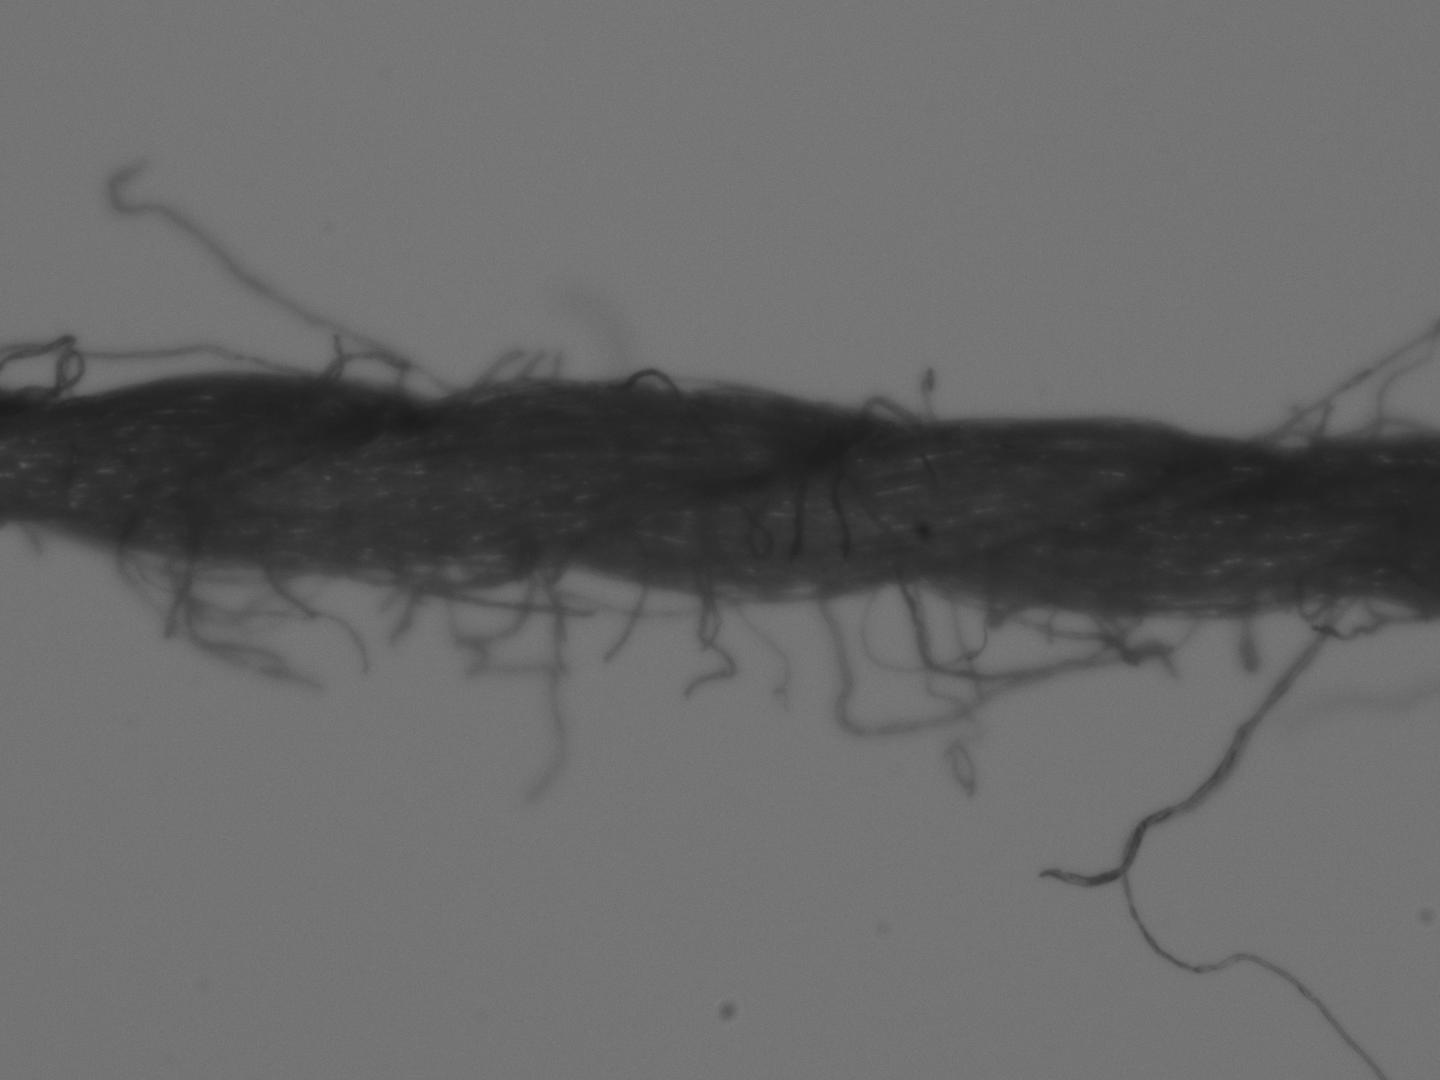loop_fiber: (811, 571, 1203, 741), (0, 330, 425, 408), (379, 565, 791, 616), (90, 545, 331, 628)
protruding_fiber: (1115, 596, 1395, 1078), (102, 155, 465, 403), (253, 558, 374, 684), (528, 565, 568, 802), (677, 581, 740, 702), (601, 581, 649, 667)
